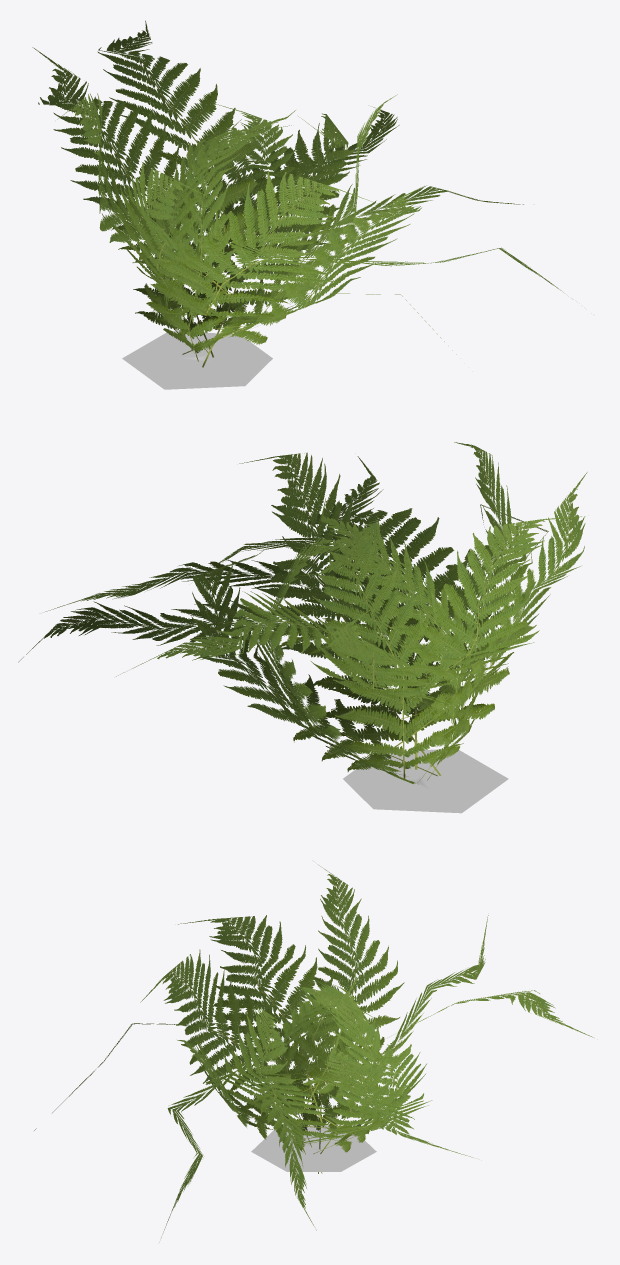
File: fern_bush.fbx
3 renders of one model, top to bottom at view 1: azimuth 30°, elevation 25°; view 2: azimuth 150°, elevation 25°; view 3: azimuth 270°, elevation 25°, orthographic. The views are drawn at different scales.
Visible parts, largest first — view 1: fern02_1, _0; view 2: fern02_1, _0; view 3: fern02_1, _0.
Part boxes in pixels (<box>): fern02_1: <box>32,20,563,367</box>; _0: <box>122,331,272,389</box>; fern02_1: <box>18,442,587,784</box>; _0: <box>343,749,508,813</box>; fern02_1: <box>34,865,593,1237</box>; _0: <box>251,1125,376,1171</box>.
Bounding box in the file's own units: 117 × 66.42 × 141.
Materials: 1 (1 with a texture image).
